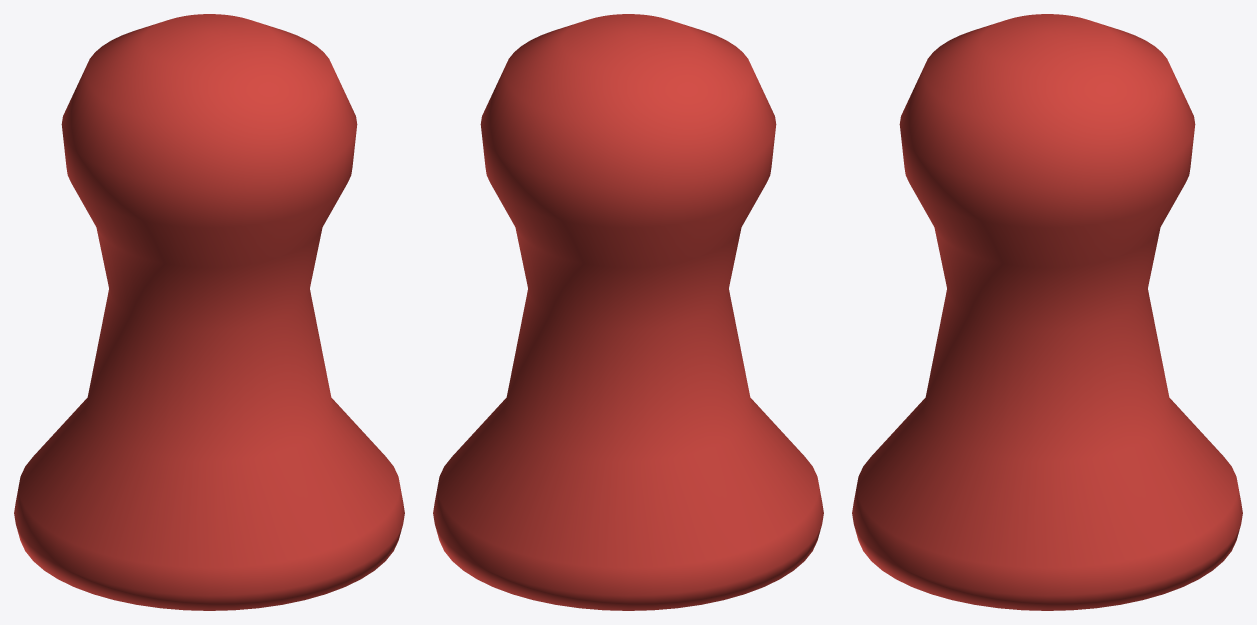
The model's file is peg_human.glb.
3 views of the same model, side by side, from view 1: azimuth 30°, elevation 25°; view 2: azimuth 150°, elevation 25°; view 3: azimuth 270°, elevation 25° (orthographic).
Visible parts, largest first — view 1: PegHuman; view 2: PegHuman; view 3: PegHuman.
Part boxes in pixels (x1=…): PegHuman: x1=14, y1=14, x2=404, y2=610; PegHuman: x1=433, y1=14, x2=823, y2=610; PegHuman: x1=852, y1=14, x2=1242, y2=610.
Bounding box in the file's own units: 0.205 × 0.2875 × 0.205.
